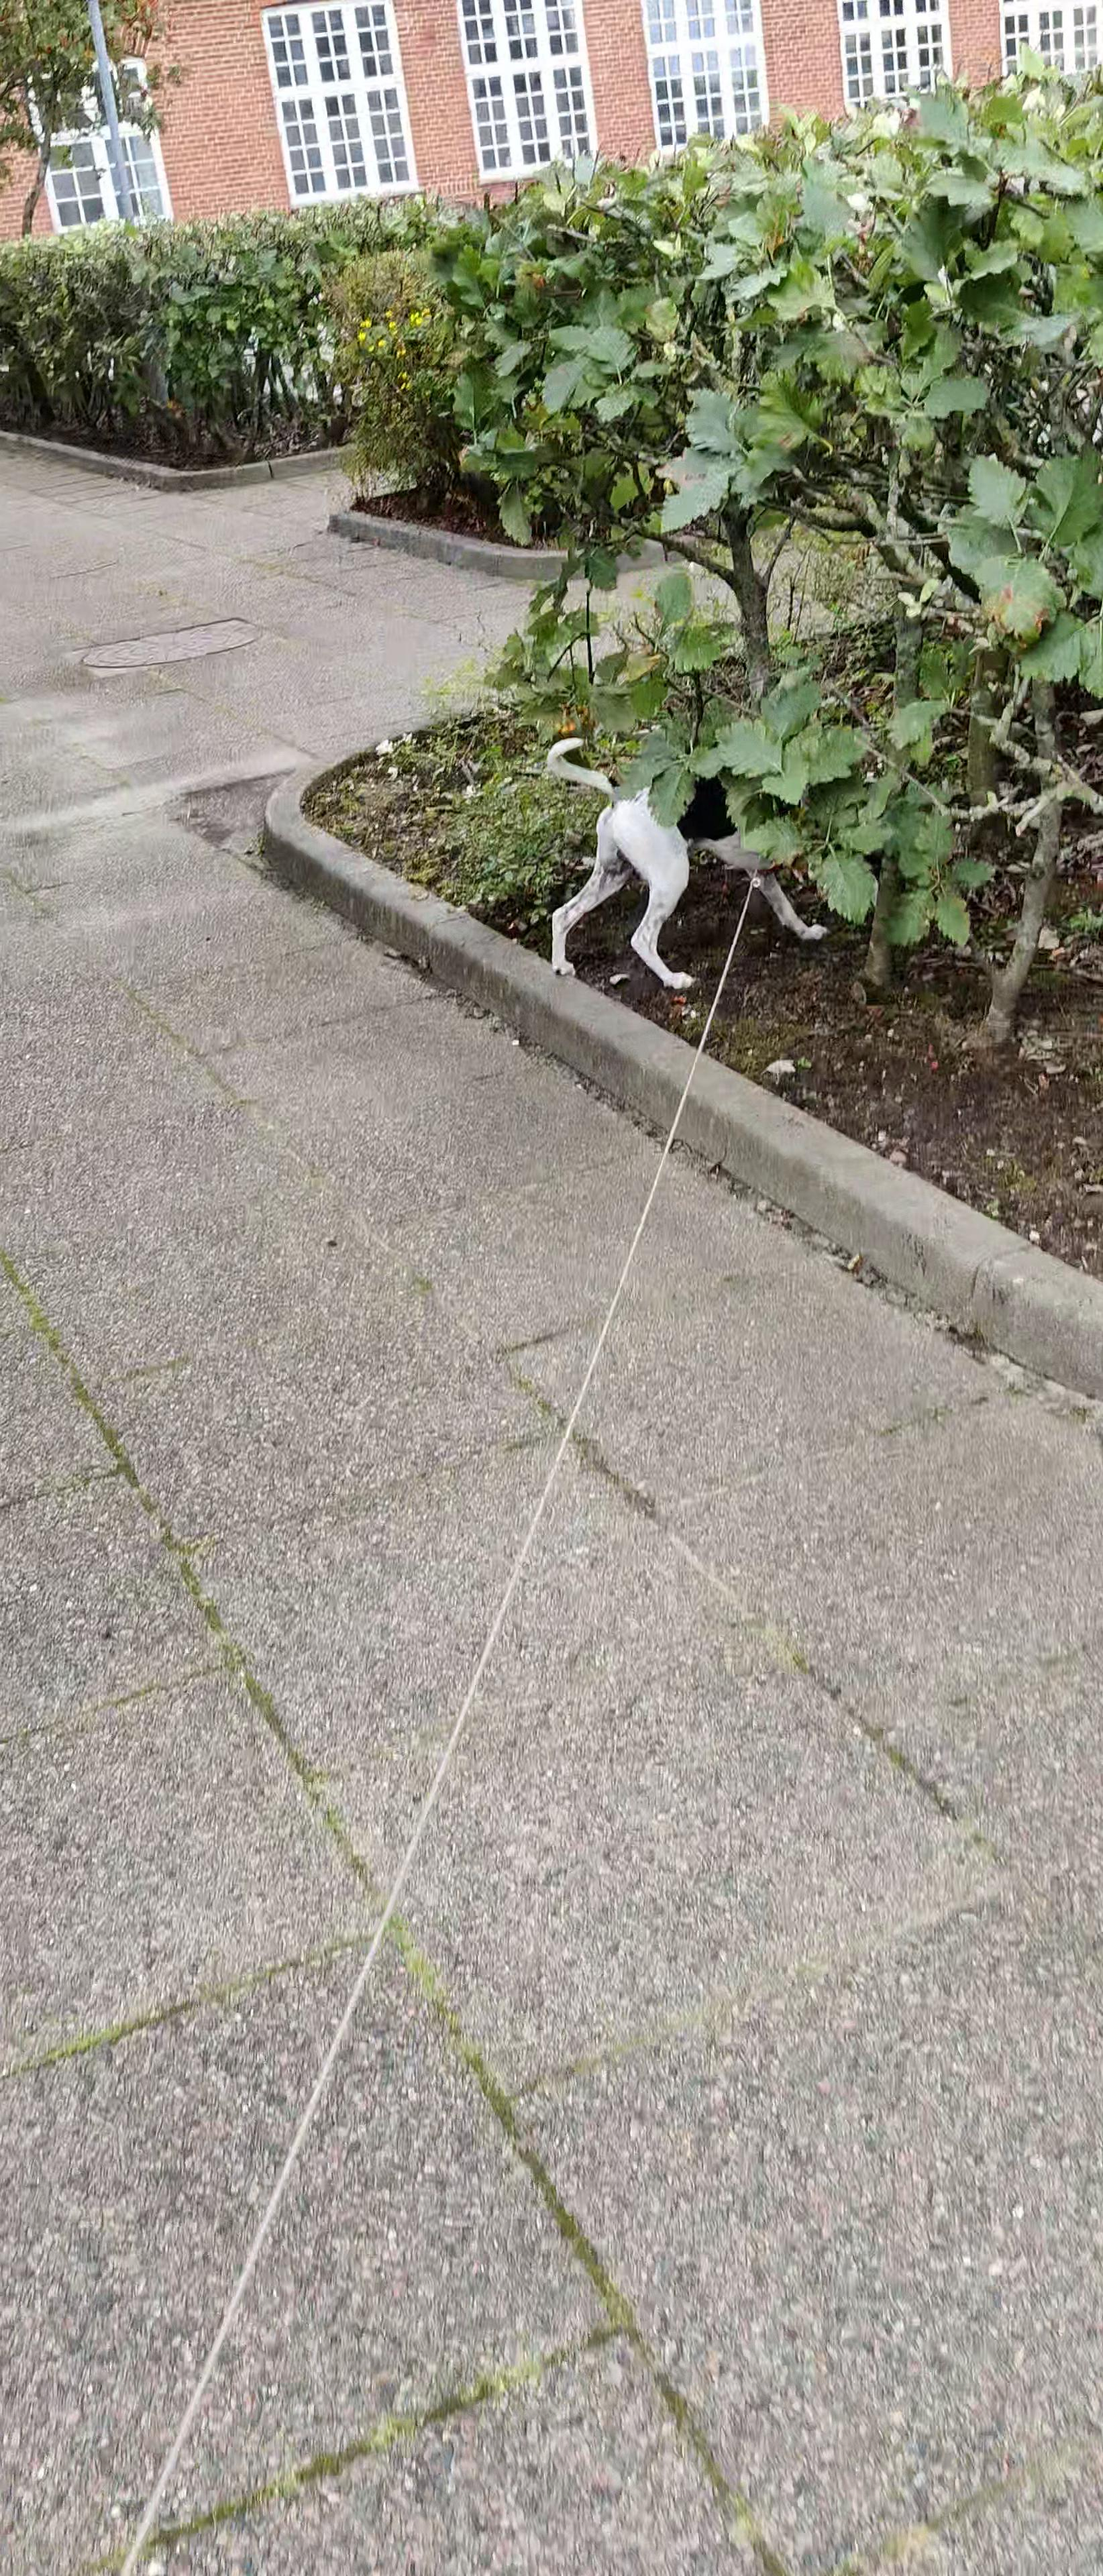Dog: (542, 734, 837, 994)
